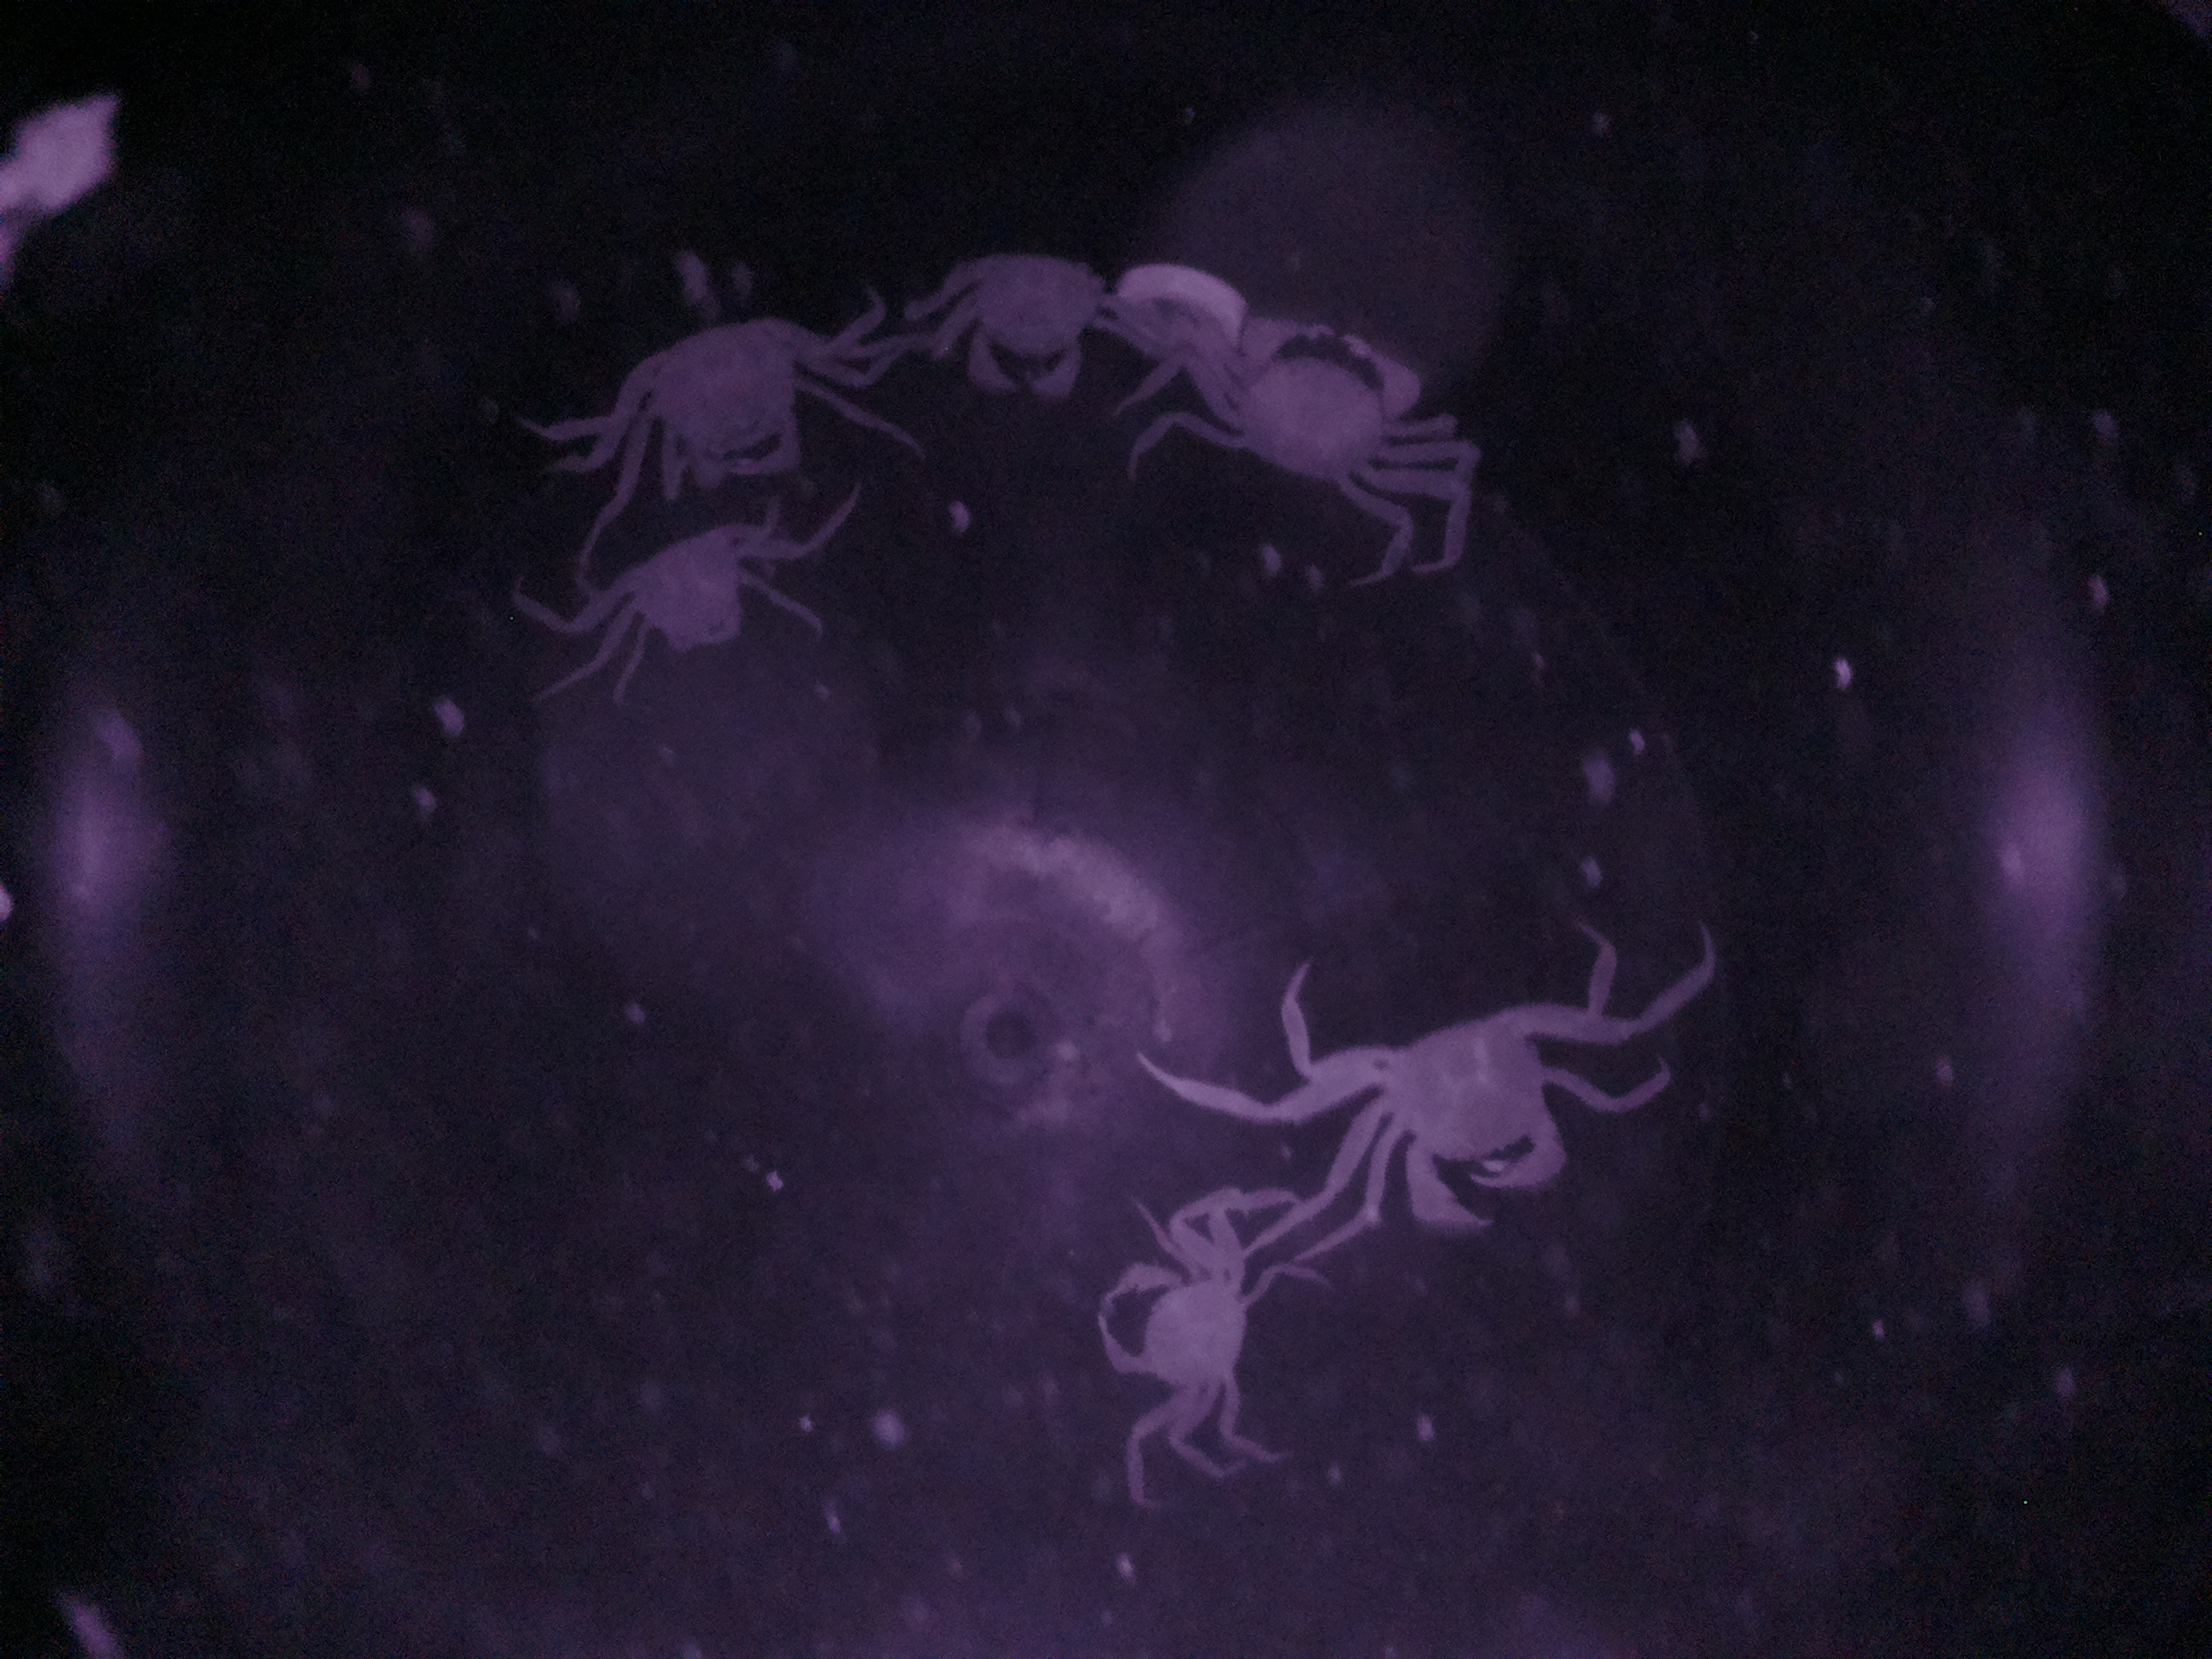Crab: (1339, 981, 1595, 1239), (1179, 310, 1451, 523), (1078, 1211, 1285, 1438), (913, 237, 1146, 423), (554, 491, 792, 652)
